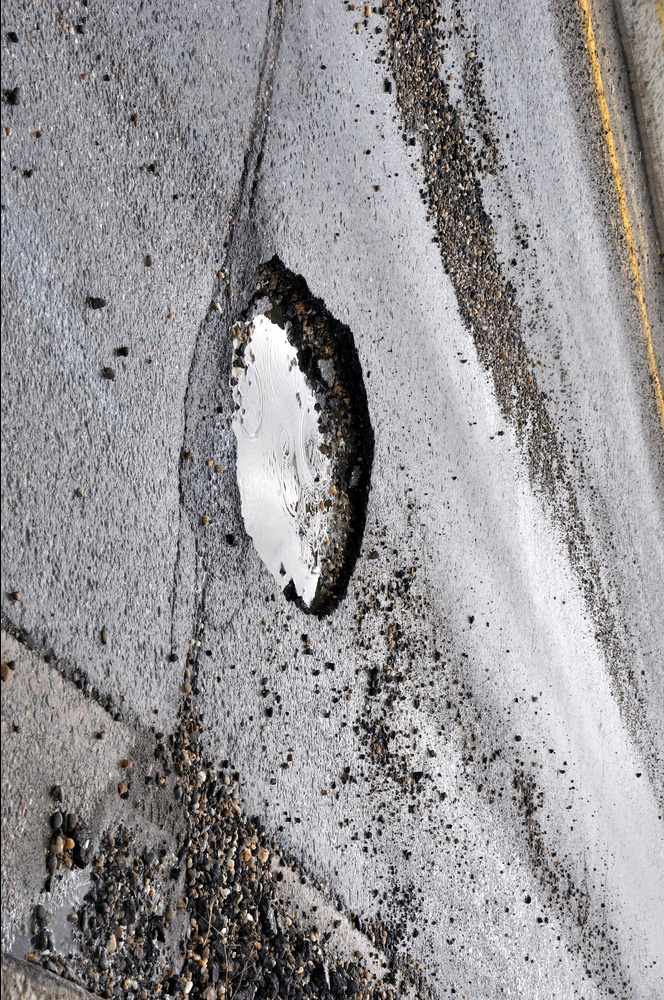pothole: (219, 258, 366, 632)
